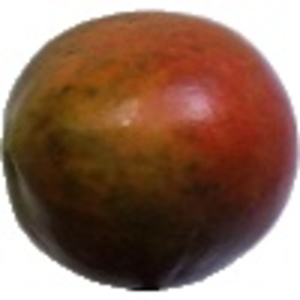manga: (1, 1, 300, 290)
